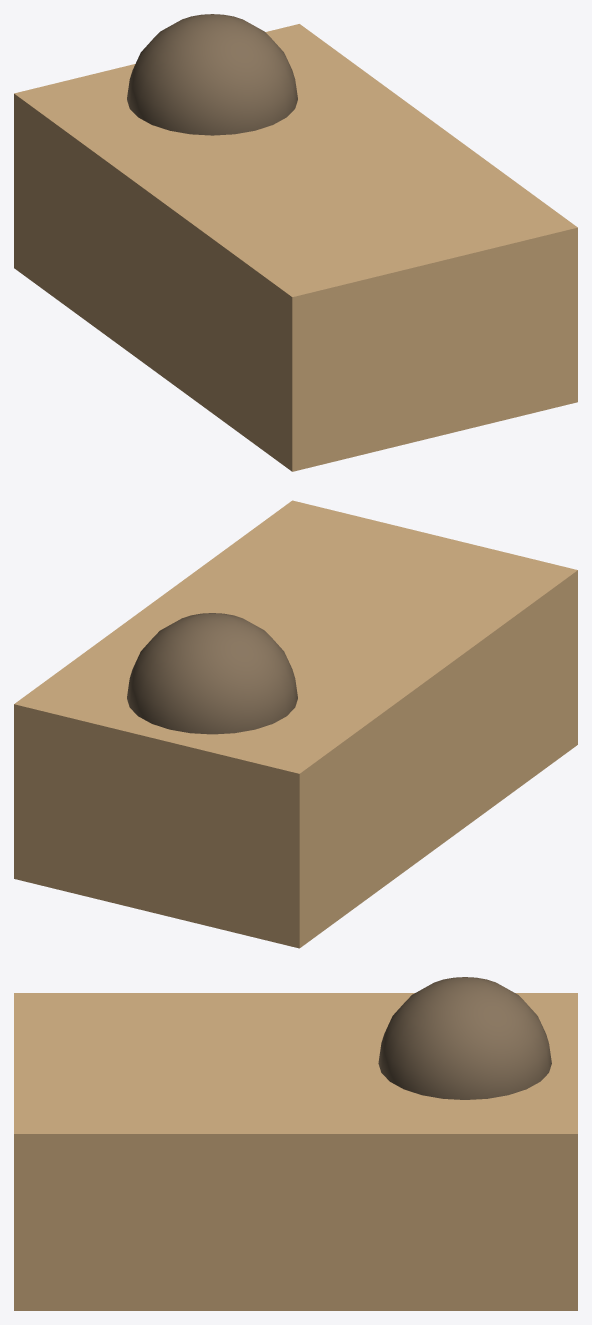
The model's file is doll_Foot_R.glb.
3 views of the same model, one above another, from view 1: azimuth 30°, elevation 25°; view 2: azimuth 150°, elevation 25°; view 3: azimuth 270°, elevation 25° (orthographic).
Parts seen in each view (by area): view 1: Foot_R; view 2: Foot_R; view 3: Foot_R.
Boxes of the visible parts, x1,y1,x2,y2 form: Foot_R: (14,14,577,471); Foot_R: (14,500,577,948); Foot_R: (14,977,577,1310).
Size of the model in its own units: 0.154 by 0.13 by 0.26.
